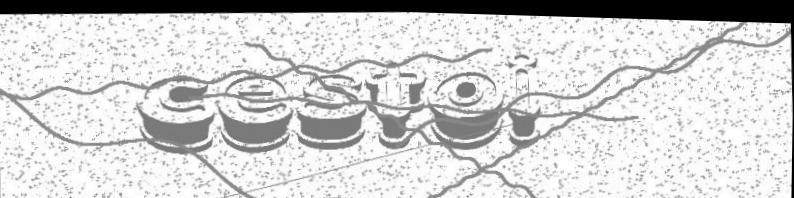c: (134, 71, 219, 154)
e: (215, 70, 296, 153)
i: (501, 48, 543, 145)
o: (426, 64, 507, 149)
s: (294, 69, 370, 150)
t: (364, 58, 429, 148)
